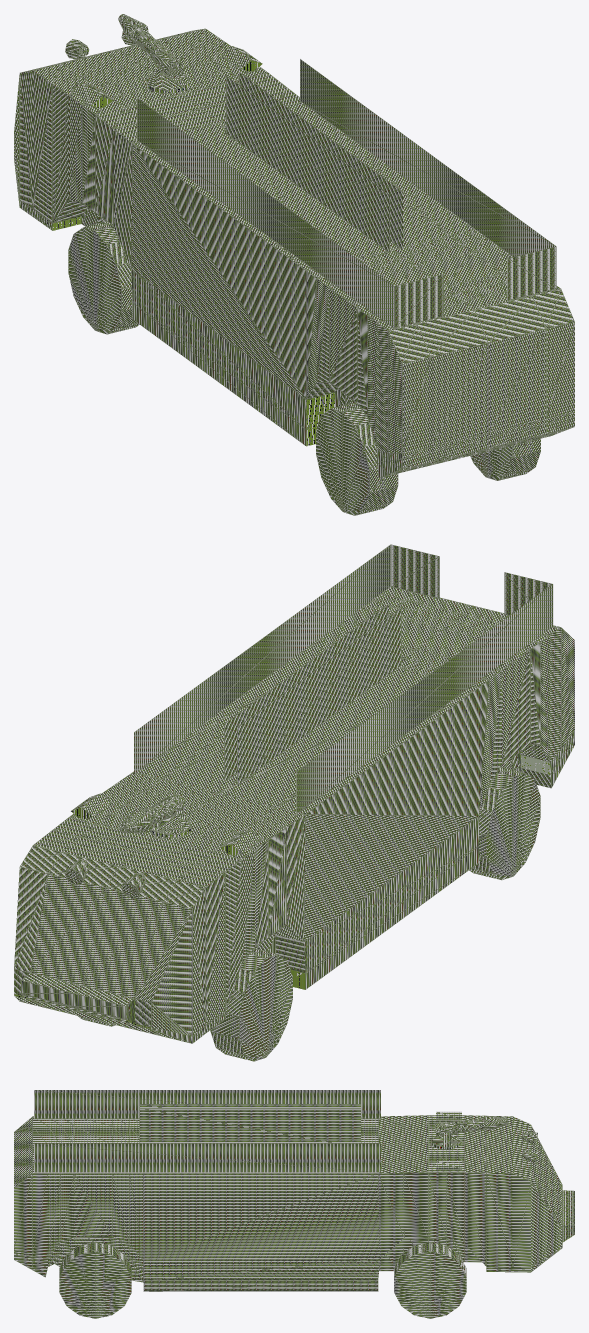
File: vehiculo.gltf
3 views of the same model, one above another, from view 1: azimuth 30°, elevation 25°; view 2: azimuth 150°, elevation 25°; view 3: azimuth 270°, elevation 25° (orthographic). The views are drawn at different scales.
Visible parts, largest first — view 1: node1; view 2: node1; view 3: node1.
Part boxes in pixels (x1,y1,x2,y2): node1: (14,14,574,515); node1: (14,544,574,1061); node1: (14,1090,574,1318).
Size of the model in its own units: 3 by 4.54 by 12.48.
